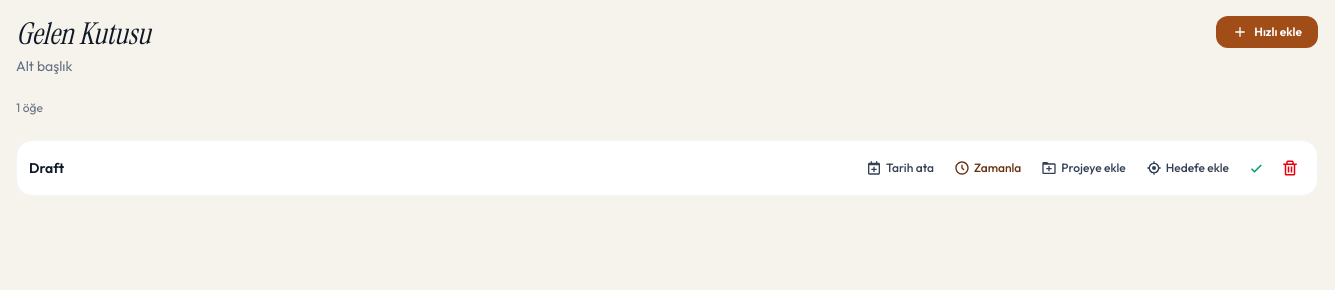
Test: InboxPage › attach to a goal › does not send anything when the goal is not chosen
Click the button "Hedefe ekle": {"x": 1187, "y": 168} left=1138, top=156, right=1237, bottom=180
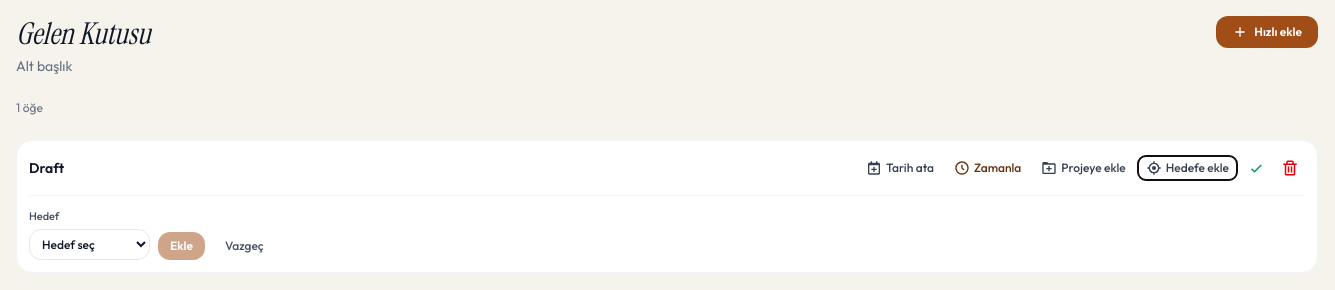
expect the button "Ekle" is disabled: met, box left=158, top=232, right=205, bottom=260
